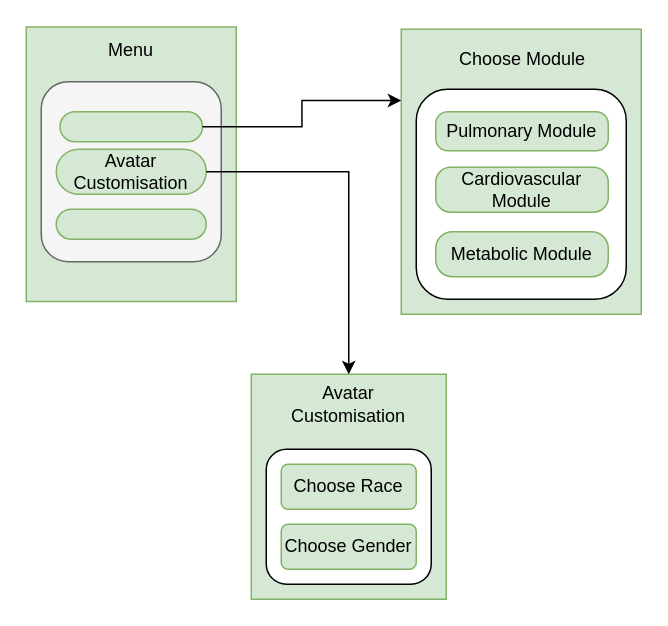
Image size: 668x626. Some labels were removed from this diagram. Here are the shapes that lost their labels. From the top down, the centre of each, then its label:
[130,126]: Start Lab
[130,223]: Quit
